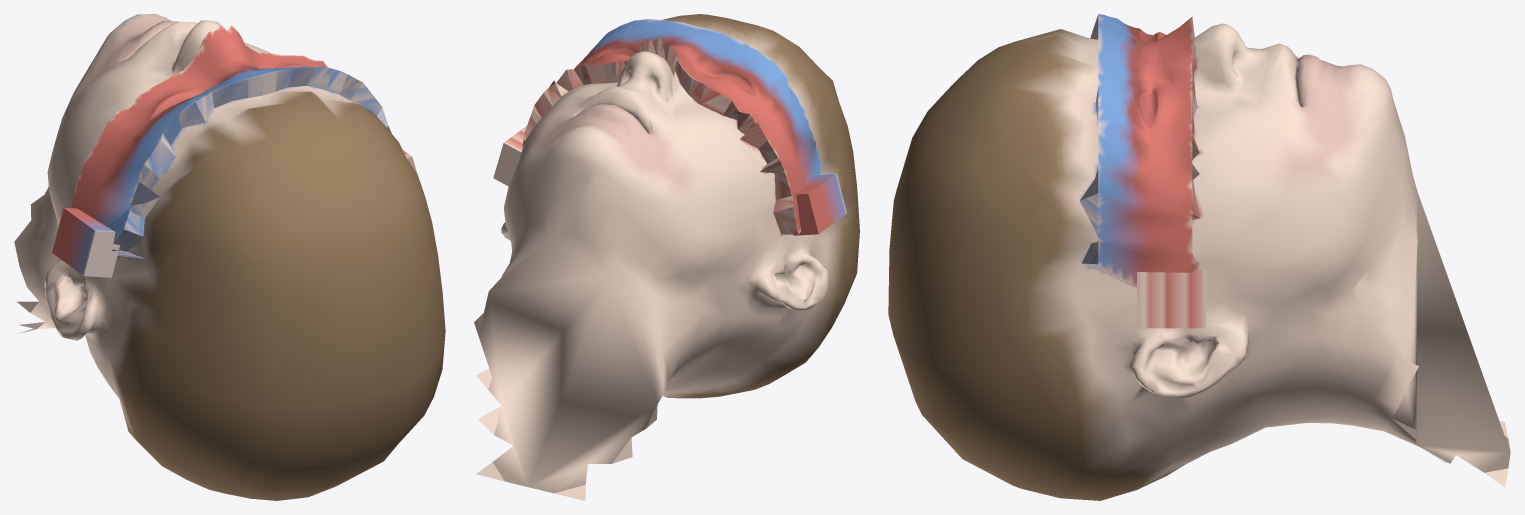
Rendered from windman_head_authored.glb.
3 views of the same model, side by side, from view 1: azimuth 30°, elevation 25°; view 2: azimuth 150°, elevation 25°; view 3: azimuth 270°, elevation 25° (orthographic). The views are drawn at different scales.
Visible parts, largest first — view 1: Human; view 2: Human; view 3: Human.
Part boxes in pixels (left/top/right/bottom): Human: left=14, top=14, right=445, bottom=500; Human: left=474, top=14, right=859, bottom=500; Human: left=888, top=14, right=1510, bottom=500.
Bounding box in the file's own units: 0.2175 × 0.2521 × 0.304.
1 material, 1 textured.
